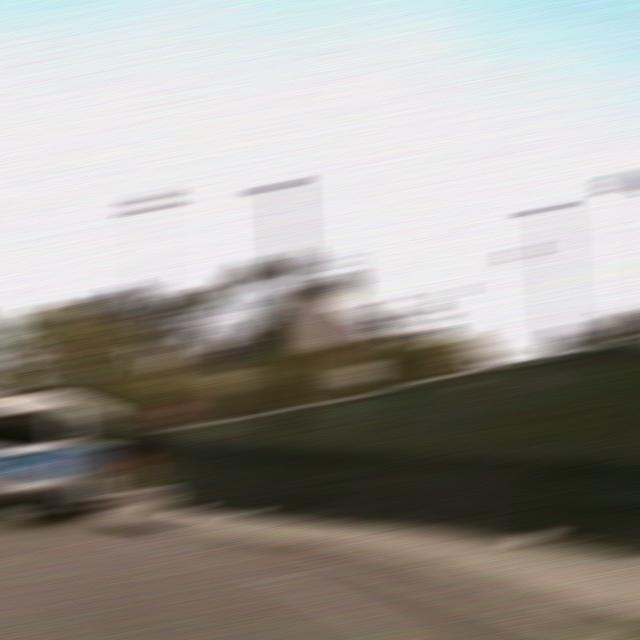stop: (156, 395, 197, 426)
